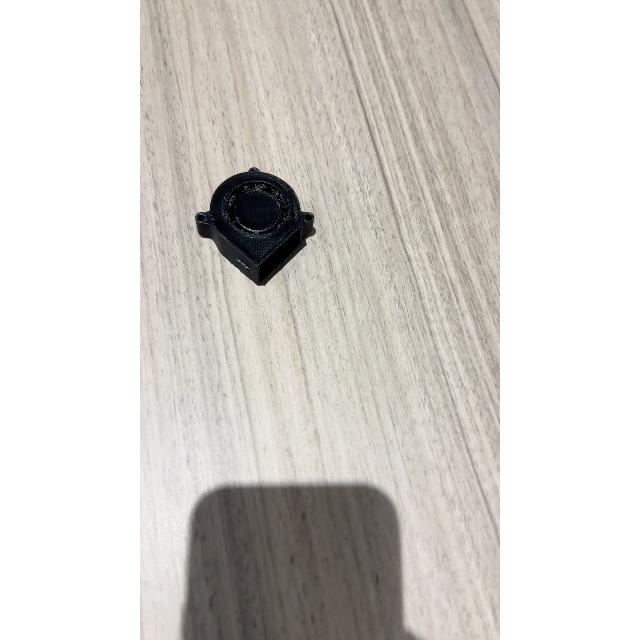Pieza_3: (190, 159, 322, 295)
